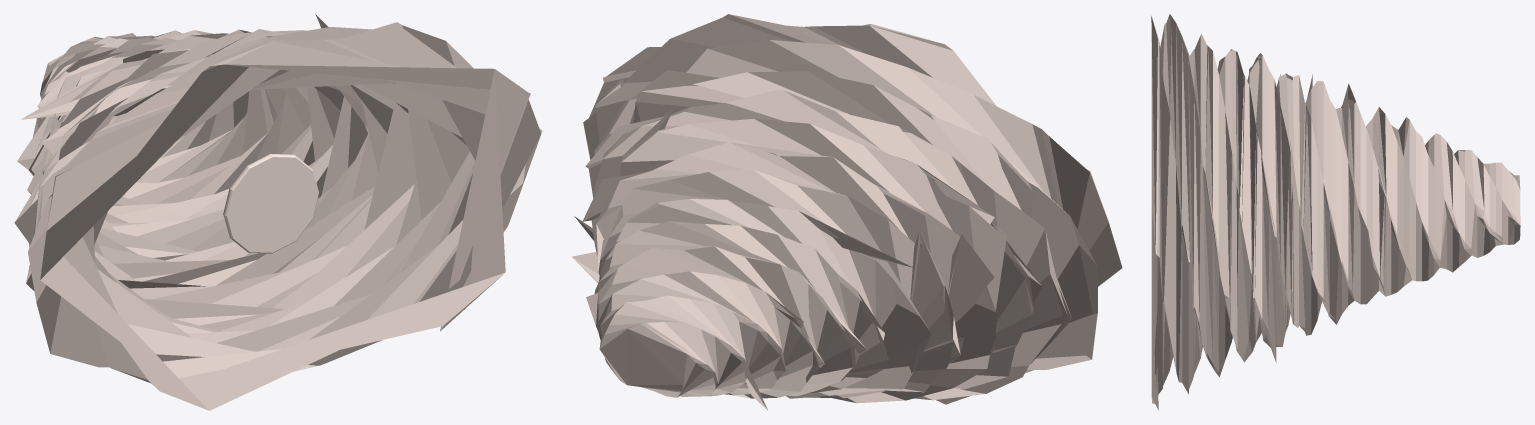
Rendered from 45-Arte3D_concha_mar.glb.
The picture shows the model from 3 angles, left to right: view 1: azimuth 30°, elevation 25°; view 2: azimuth 150°, elevation 25°; view 3: azimuth 270°, elevation 25°; orthographic projection. The views are drawn at different scales.
Parts seen in each view (by area): view 1: SM_Concha_M_Concha_Mar, SM_Concha_M_Concha_Interior; view 2: SM_Concha_M_Concha_Mar; view 3: SM_Concha_M_Concha_Mar.
Boxes of the visible parts, bbox=[...] form: SM_Concha_M_Concha_Mar: bbox=[14, 14, 542, 410]; SM_Concha_M_Concha_Interior: bbox=[223, 153, 318, 253]; SM_Concha_M_Concha_Mar: bbox=[572, 14, 1122, 410]; SM_Concha_M_Concha_Mar: bbox=[1151, 14, 1520, 410].
Bounding box in the file's own units: 0.4302 × 0.283 × 0.3001.
